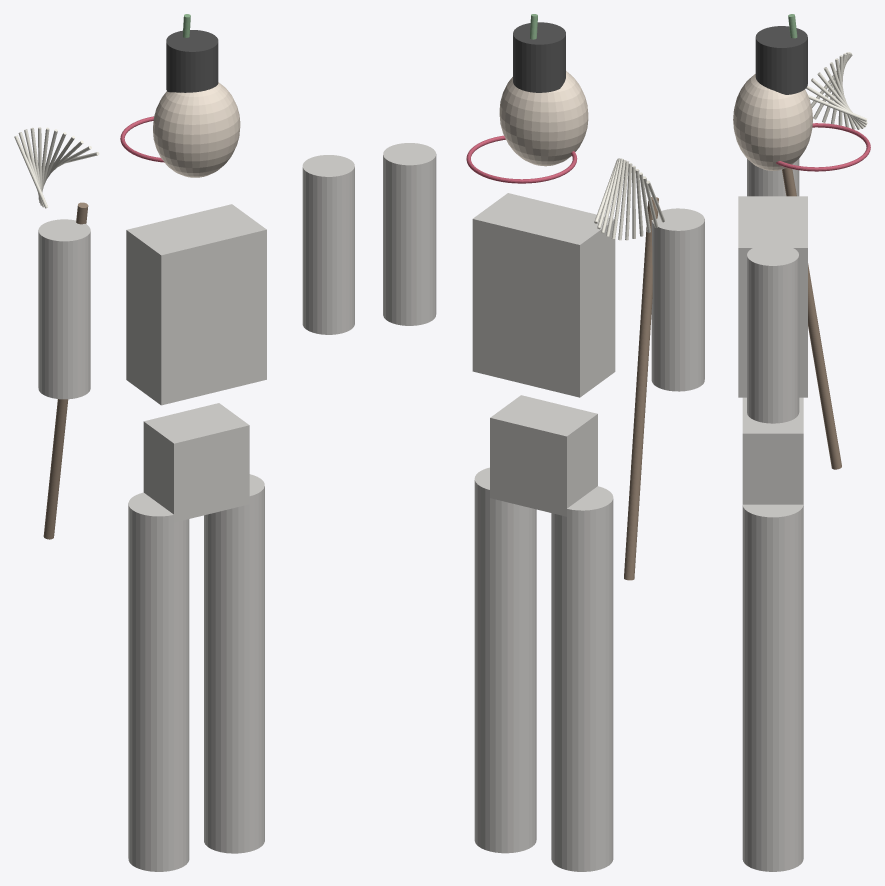
The model's file is 光明左使_粗模.glb.
The picture shows the model from 3 angles, left to right: view 1: azimuth 30°, elevation 25°; view 2: azimuth 150°, elevation 25°; view 3: azimuth 270°, elevation 25°; orthographic projection.
Parts seen in each view (by area): view 1: 光明左使_Torso, 光明左使_Leg.001, 光明左使_Leg, 光明左使_Waist, 光明左使_Sleeve, 光明左使_Sleeve.001, 光明左使_Head, 光明左使_Bun, 光明左使_WhiskStaff; view 2: 光明左使_Torso, 光明左使_Leg.001, 光明左使_Leg, 光明左使_Waist, 光明左使_Sleeve, 光明左使_Sleeve.001, 光明左使_Head, 光明左使_WhiskStaff, 光明左使_Bun, 光明左使_CollarTrim; view 3: 光明左使_Leg, 光明左使_Sleeve, 光明左使_Torso, 光明左使_Head, 光明左使_Waist, 光明左使_Bun, 光明左使_WhiskStaff, 光明左使_Sleeve.001, 光明左使_CollarTrim.
Part boxes in pixels (x1,y1,x2,y2): 光明左使_Torso: (126,204,266,405); 光明左使_Leg.001: (128,492,189,871); 光明左使_Leg: (204,474,264,853); 光明左使_Waist: (143,403,249,522); 光明左使_Sleeve: (302,155,354,334); 光明左使_Sleeve.001: (38,219,90,399); 光明左使_Head: (153,82,240,177); 光明左使_Bun: (166,30,218,92); 光明左使_WhiskStaff: (43,202,88,539); 光明左使_Torso: (472,193,615,397); 光明左使_Leg.001: (551,486,613,871); 光明左使_Leg: (474,467,536,853); 光明左使_Waist: (490,395,597,516); 光明左使_Sleeve: (383,143,436,325); 光明左使_Sleeve.001: (651,208,704,391); 光明左使_Head: (499,71,588,166); 光明左使_WhiskStaff: (624,197,658,580); 光明左使_Bun: (513,22,565,92); 光明左使_CollarTrim: (466,135,577,183); 光明左使_Leg: (742,504,803,871); 光明左使_Sleeve: (747,244,799,423); 光明左使_Torso: (738,196,807,397); 光明左使_Head: (733,74,812,170); 光明左使_Waist: (742,397,803,504); 光明左使_Bun: (755,26,807,94); 光明左使_WhiskStaff: (782,167,841,469); 光明左使_Sleeve.001: (747,159,799,196); 光明左使_CollarTrim: (776,123,870,171).
Bounding box in the file's own units: 0.82 × 2.1 × 0.317.
